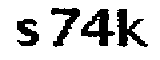4: (81, 7, 115, 50)
7: (47, 5, 80, 53)
k: (114, 5, 149, 52)
s: (13, 17, 40, 51)
